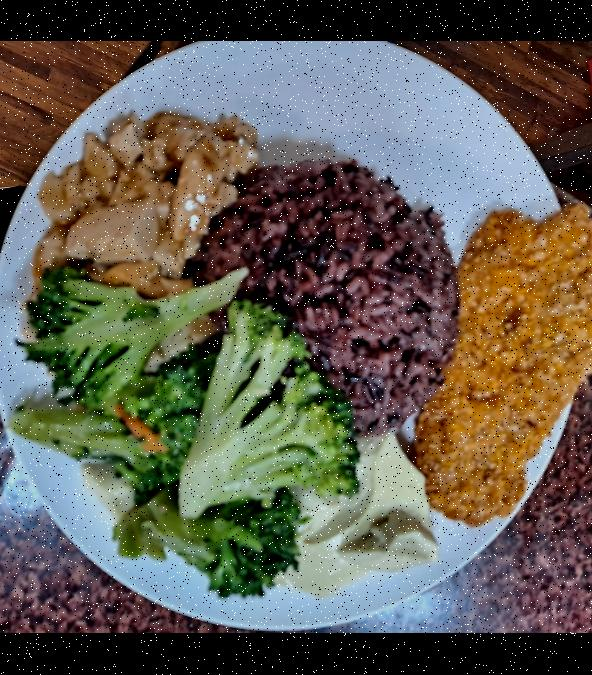chicken steak: (409, 206, 592, 520)
plate: (0, 41, 592, 633)
purple rice: (198, 153, 465, 443)
side dish: (17, 272, 358, 600), (24, 107, 253, 321), (284, 420, 447, 593)
